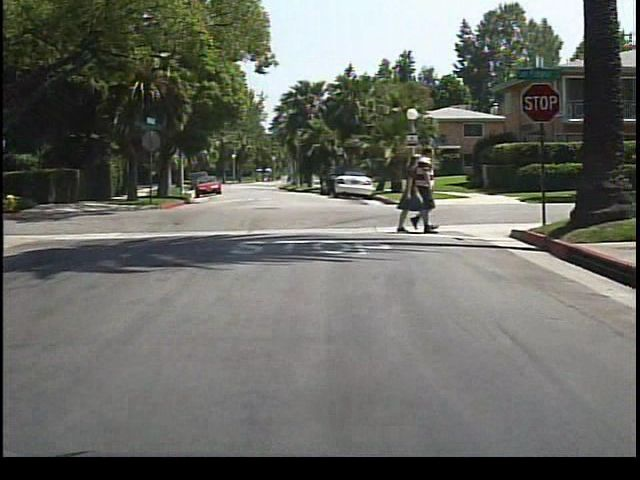person: (413, 147, 447, 235), (393, 151, 422, 239)
